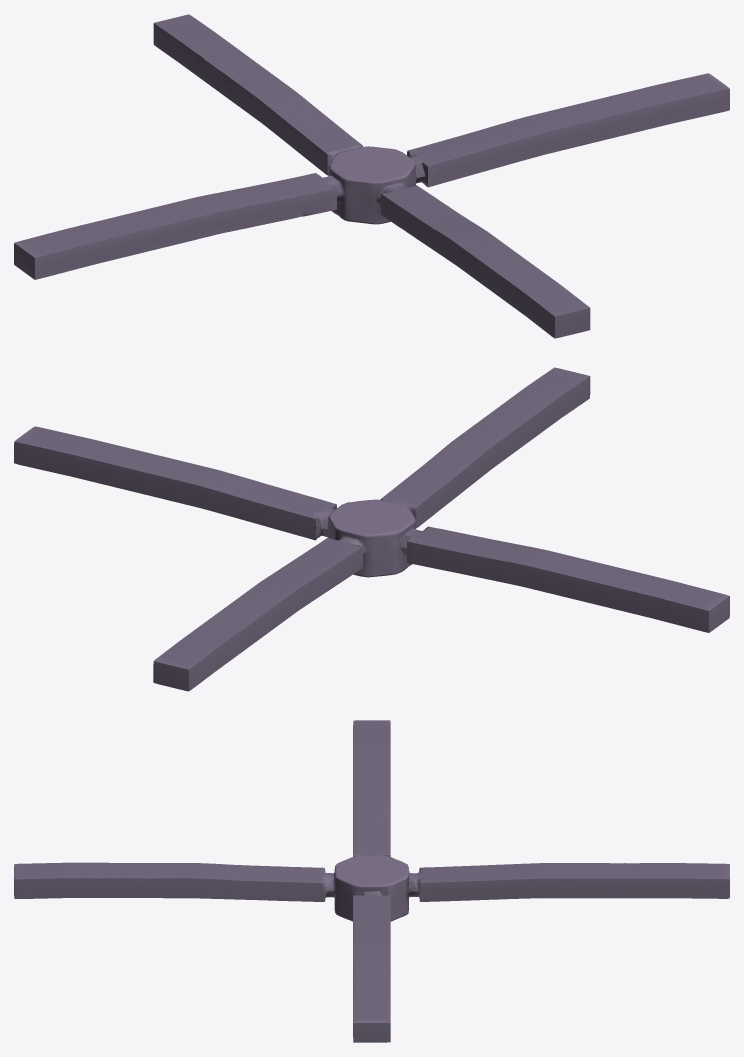
The model's file is top propeller.glb.
The picture shows the model from 3 angles, top to bottom: view 1: azimuth 30°, elevation 25°; view 2: azimuth 150°, elevation 25°; view 3: azimuth 270°, elevation 25°; orthographic projection. The views are drawn at different scales.
Parts seen in each view (by area): view 1: mesh_node; view 2: mesh_node; view 3: mesh_node.
Boxes of the visible parts, box(x1,y1,x2,y2) form: mesh_node: box(14, 14, 729, 338); mesh_node: box(14, 367, 729, 691); mesh_node: box(14, 720, 729, 1042).
Size of the model in its own units: 1.9 by 0.1112 by 1.9.
Materials: 1 (1 with a texture image).
